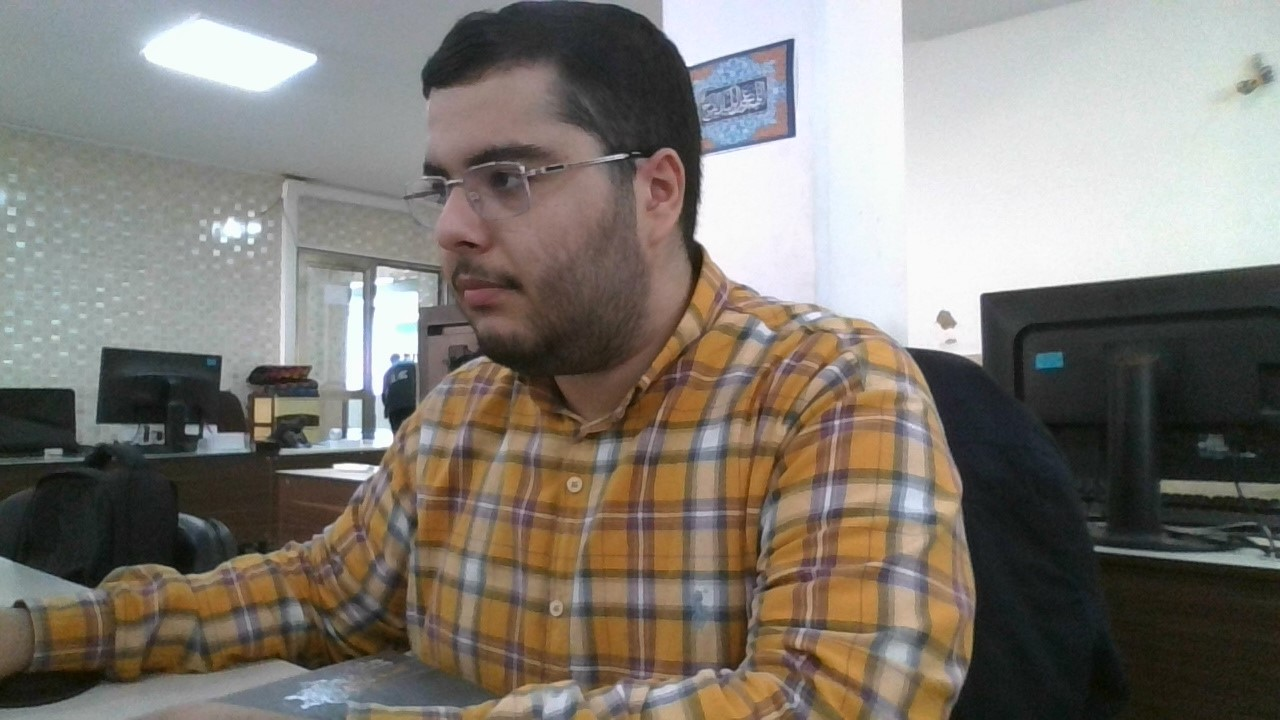NoMask: (427, 204, 672, 379)
